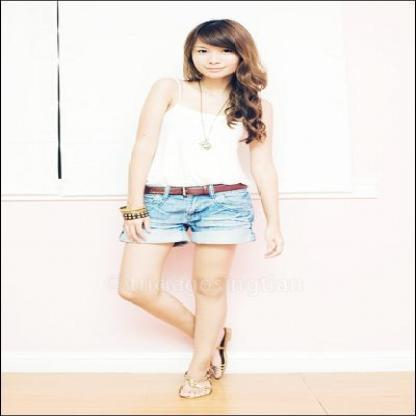shirt: (148, 81, 257, 191)
shoe: (178, 360, 224, 397)
shorts: (144, 184, 264, 247)
